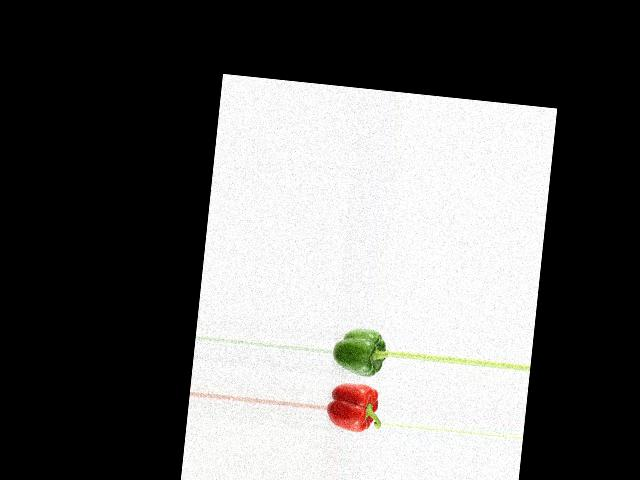bell_pepper: (332, 324, 389, 380)
